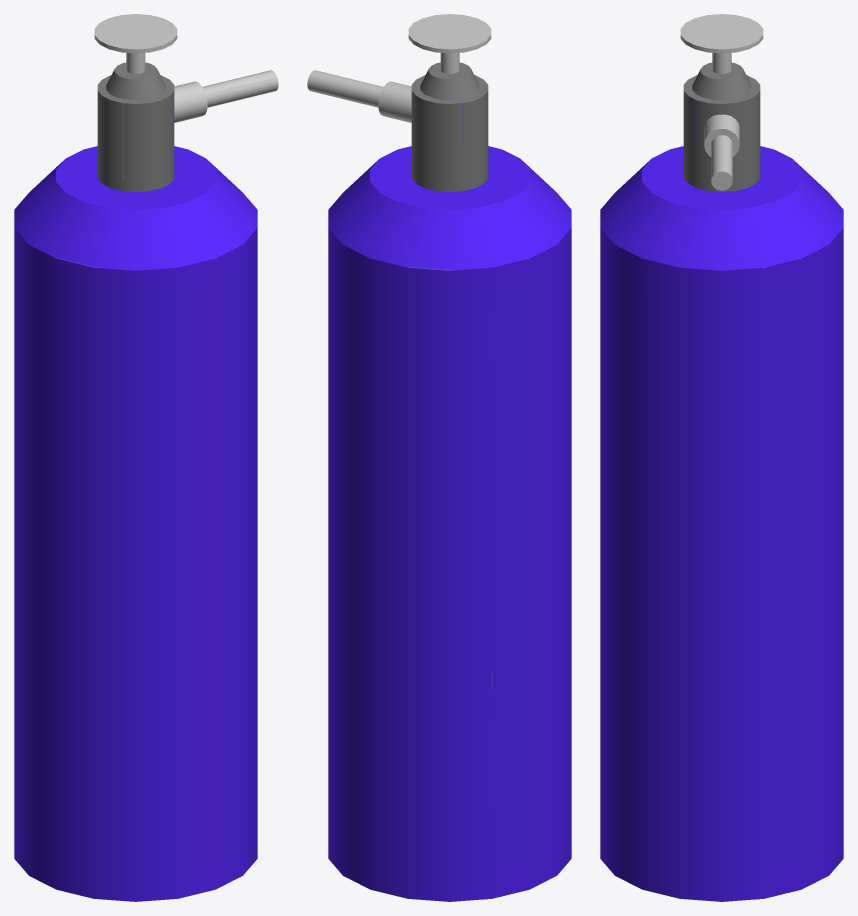
File: Gas_bottle.FBX
3 renders of one model, left to right at view 1: azimuth 30°, elevation 25°; view 2: azimuth 150°, elevation 25°; view 3: azimuth 270°, elevation 25°, orthographic.
Parts seen in each view (by area): view 1: Gas_bottle; view 2: Gas_bottle; view 3: Gas_bottle.
Boxes of the visible parts, x1=… form: Gas_bottle: x1=14, y1=14, x2=278, y2=901; Gas_bottle: x1=307, y1=14, x2=571, y2=901; Gas_bottle: x1=600, y1=14, x2=843, y2=901.
Bounding box in the file's own units: 3.06 × 9.81 × 2.64.
Materials: 1 (1 with a texture image).
